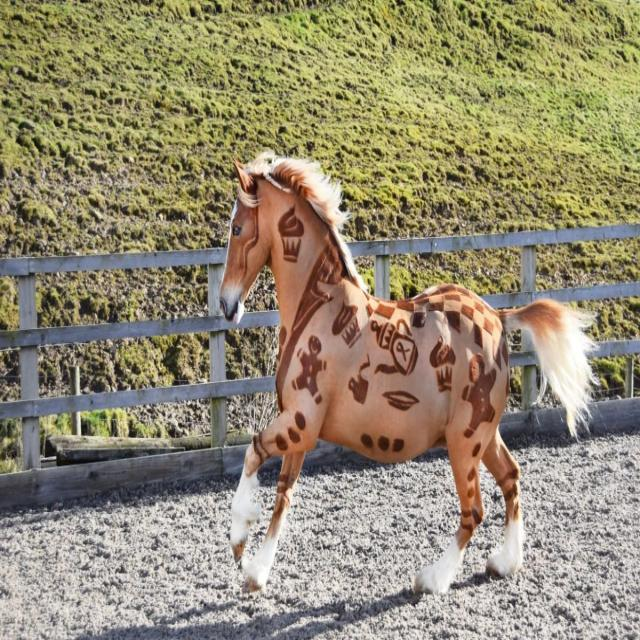Horse: (217, 157, 617, 587)
